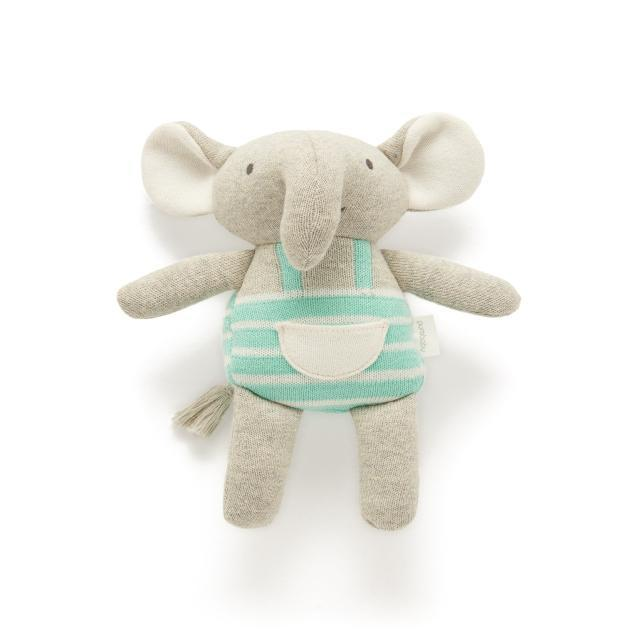soft-toy: (118, 112, 520, 529)
